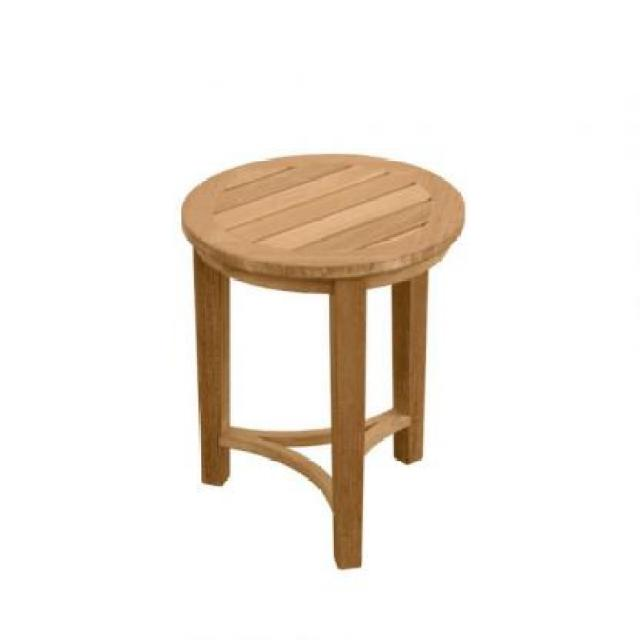table: (178, 152, 468, 565)
